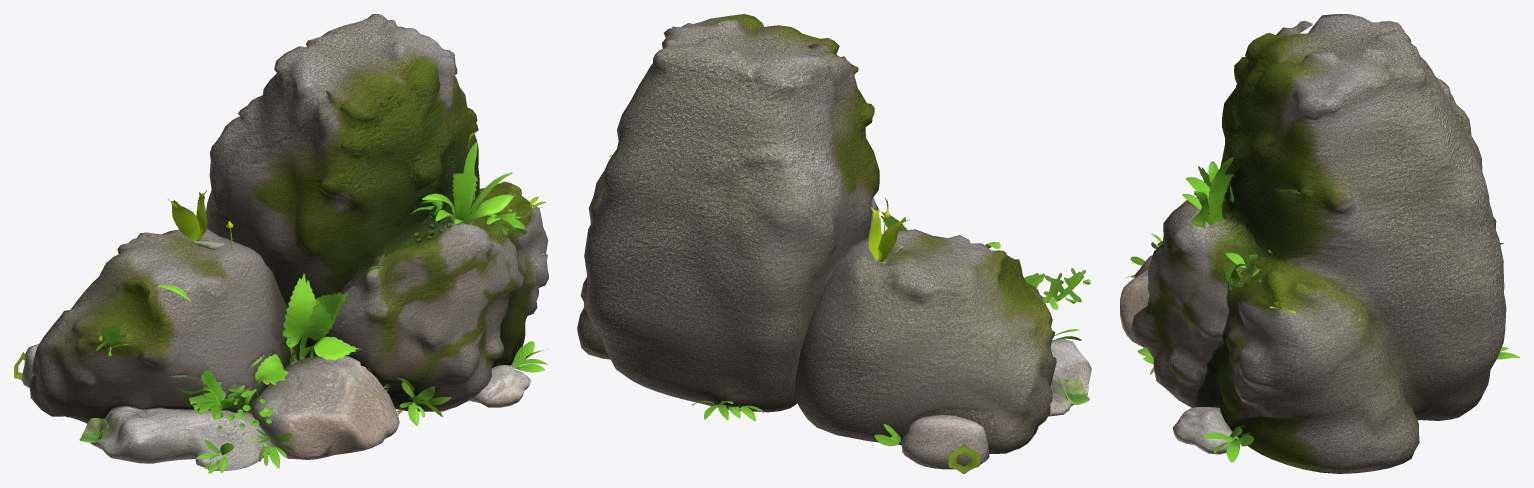
Rendered from RockGarden_Tripo_A.fbx.
3 renders of one model, left to right at view 1: azimuth 30°, elevation 25°; view 2: azimuth 150°, elevation 25°; view 3: azimuth 270°, elevation 25°, orthographic. The views are drawn at different scales.
Visible parts, largest first — view 1: RockGarden_Tripo_A; view 2: RockGarden_Tripo_A; view 3: RockGarden_Tripo_A.
Boxes of the visible parts, x1=… form: RockGarden_Tripo_A: x1=14, y1=14, x2=548, y2=473; RockGarden_Tripo_A: x1=577, y1=14, x2=1091, y2=473; RockGarden_Tripo_A: x1=1120, y1=14, x2=1519, y2=473.
Size of the model in its own units: 1.39 by 0.92 by 0.9186.
2 materials, 2 textured.
